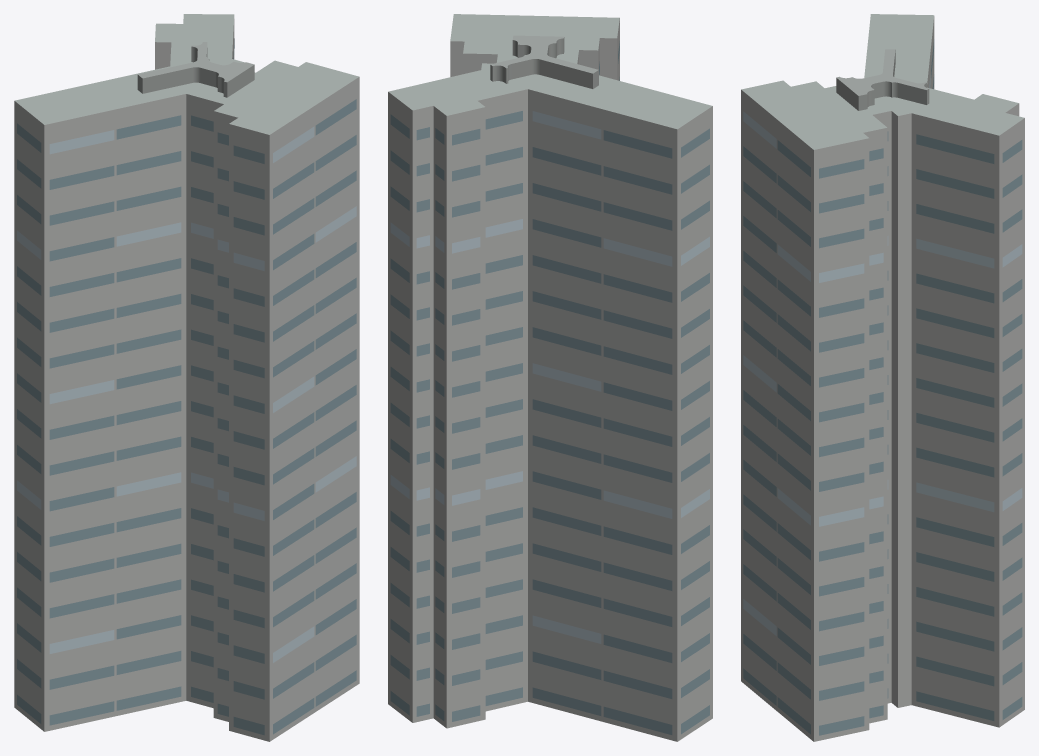
File: fallback-seoulforest-riverview-xi-101.glb
The picture shows the model from 3 angles, left to right: view 1: azimuth 30°, elevation 25°; view 2: azimuth 150°, elevation 25°; view 3: azimuth 270°, elevation 25°; orthographic projection. The views are drawn at different scales.
Visible parts, largest first — view 1: fallback-seoulforest-riverview-xi-101; view 2: fallback-seoulforest-riverview-xi-101; view 3: fallback-seoulforest-riverview-xi-101.
Part boxes in pixels (<box>): fallback-seoulforest-riverview-xi-101: <box>14,14,359,741</box>; fallback-seoulforest-riverview-xi-101: <box>388,14,712,741</box>; fallback-seoulforest-riverview-xi-101: <box>741,14,1024,741</box>.
Bounding box in the file's own units: 46.65 × 97 × 41.11.
